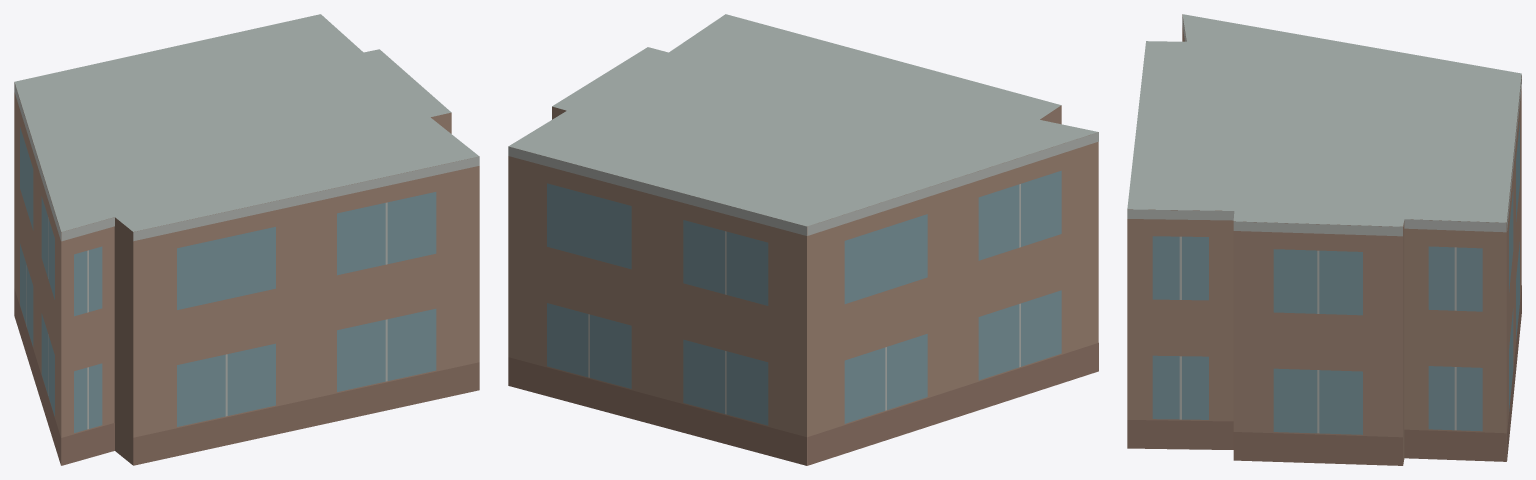
File: survey-upis-32823096.glb
3 renders of one model, left to right at view 1: azimuth 30°, elevation 25°; view 2: azimuth 150°, elevation 25°; view 3: azimuth 270°, elevation 25°, orthographic. The views are drawn at different scales.
Parts seen in each view (by area): view 1: survey-upis-32823096.tmp; view 2: survey-upis-32823096.tmp; view 3: survey-upis-32823096.tmp.
Boxes of the visible parts, bbox=[...] form: survey-upis-32823096.tmp: bbox=[14, 14, 479, 465]; survey-upis-32823096.tmp: bbox=[508, 14, 1098, 465]; survey-upis-32823096.tmp: bbox=[1127, 14, 1521, 465].
Size of the model in its own units: 11.65 by 6.1 by 9.13.
